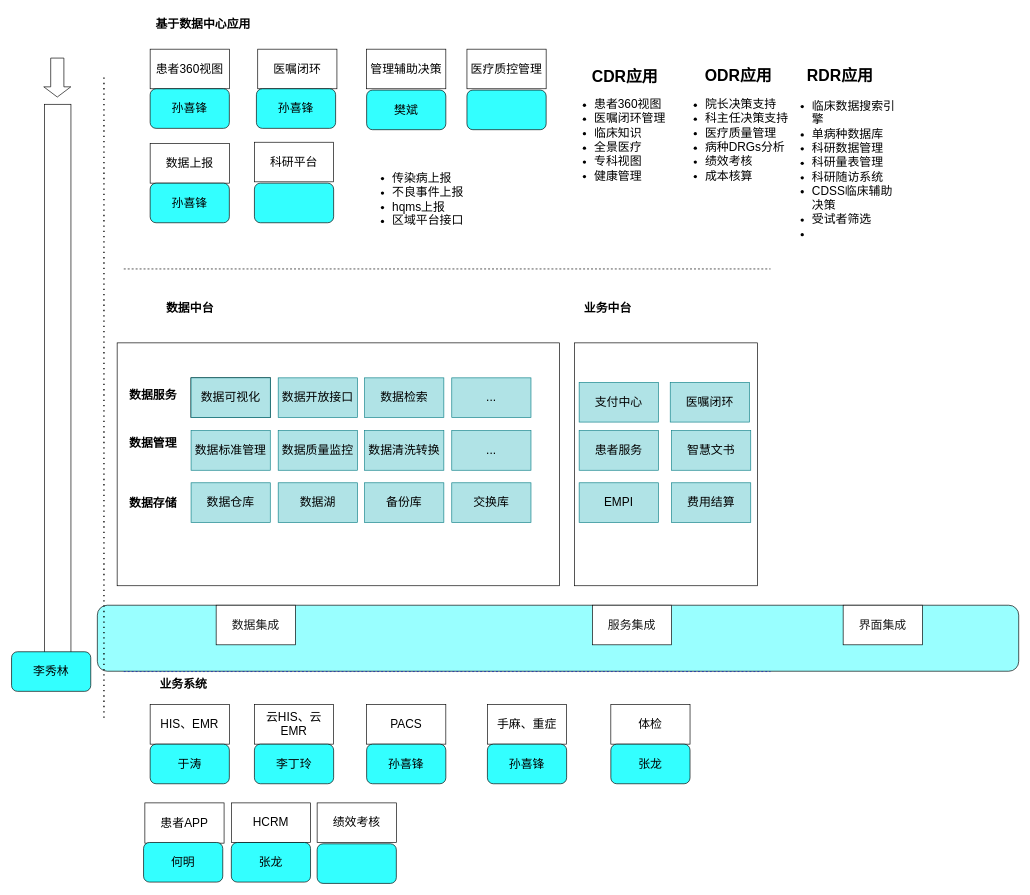
Some shapes in this 1030 by 895 pixel diagram are drawn without their labels. Each missing label, with the box of its shape:
电子病历评级 、互联互通评级 、智慧服务评级: (44, 104, 71, 658)
集成交换: (97, 605, 1019, 671)
